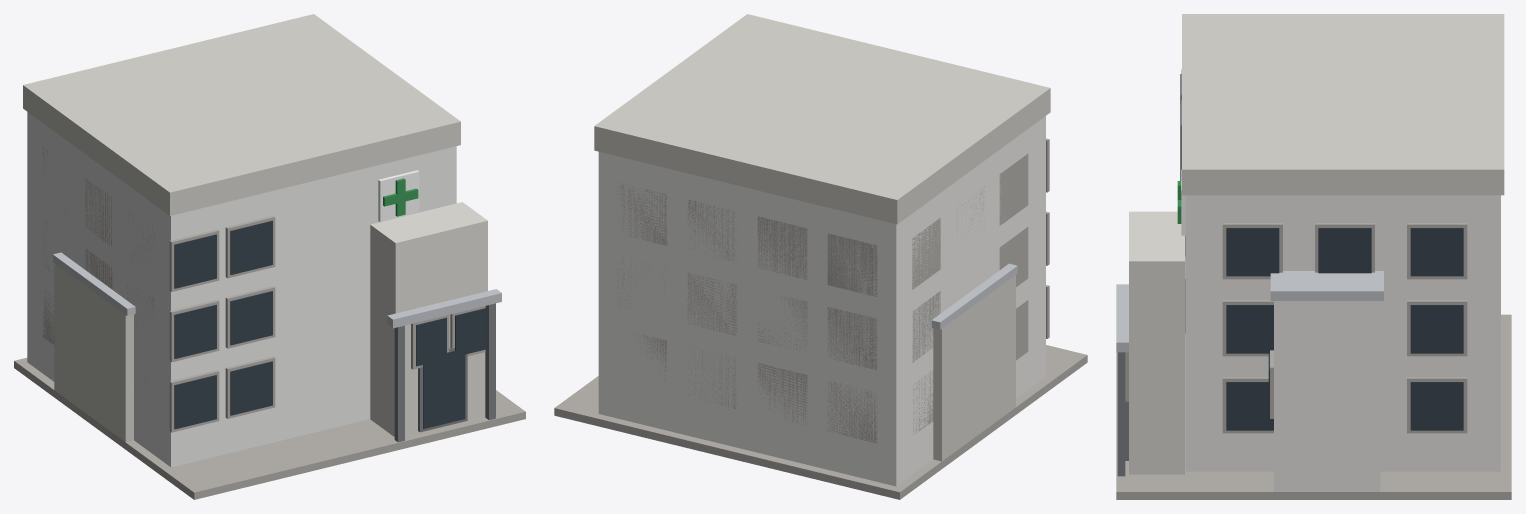
File: service_clinic.glb
3 renders of one model, left to right at view 1: azimuth 30°, elevation 25°; view 2: azimuth 150°, elevation 25°; view 3: azimuth 270°, elevation 25°, orthographic. The views are drawn at different scales.
Visible parts, largest first — view 1: clinic; view 2: clinic; view 3: clinic.
Boxes of the visible parts, x1=… form: clinic: x1=14, y1=14, x2=525, y2=499; clinic: x1=554, y1=14, x2=1087, y2=499; clinic: x1=1116, y1=14, x2=1511, y2=499.
Size of the model in its own units: 11.85 by 9.7 by 11.15.
Materials: 2 (1 with a texture image).
